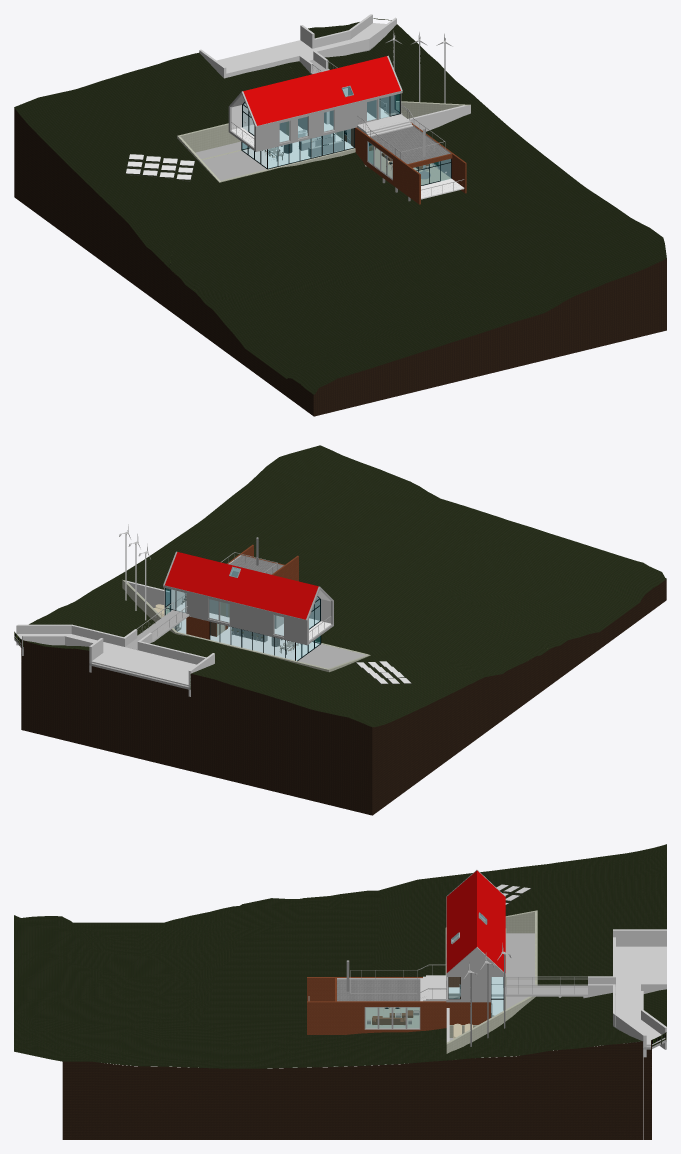
3 renders of one model, top to bottom at view 1: azimuth 30°, elevation 25°; view 2: azimuth 150°, elevation 25°; view 3: azimuth 270°, elevation 25°, orthographic. The views are drawn at different scales.
Visible parts, largest first — view 1: 表面, SG Metal Panels roof, SIP 202mm Wall - conc clad, Wall - Timber Clad (×2), CL_W1 (×2), 150mm Foundation Slab, Warm Roof - Timber, Concrete-Domestic 425mm, Generic 150mm, Foundation - 300mm Concrete, 楼梯, Timber Suspended Floor (+1 smaller); view 2: 表面 (×2), SG Metal Panels roof, SIP 202mm Wall - conc clad, 150mm Foundation Slab, Retaining - 300mm Concrete (×3), Generic 150mm, Concrete-Domestic 425mm, Insitu Concrete 225mm, Foundation - 300mm Concrete; view 3: 表面 (×2), Wall - Timber Clad (×2), SG Metal Panels roof, 150mm Foundation Slab, Insitu Concrete 225mm (×2), Warm Roof - Timber, SIP 202mm Wall - conc clad, CL_W1 (×2), Retaining - 300mm Concrete (×2), Timber Suspended Floor, 楼梯.
Part boxes in pixels (left/top/right/bottom): 表面: left=14, top=18, right=666, bottom=416; SG Metal Panels roof: left=232, top=56, right=400, bottom=125; SIP 202mm Wall - conc clad: left=257, top=91, right=401, bottom=151; Wall - Timber Clad (×2): left=354, top=102, right=466, bottom=204; CL_W1 (×2): left=178, top=101, right=470, bottom=152; 150mm Foundation Slab: left=217, top=23, right=385, bottom=72; Warm Roof - Timber: left=370, top=126, right=449, bottom=163; Concrete-Domestic 425mm: left=202, top=150, right=266, bottom=180; Generic 150mm: left=243, top=133, right=353, bottom=168; Foundation - 300mm Concrete: left=408, top=105, right=467, bottom=131; 楼梯: left=357, top=114, right=412, bottom=136; Timber Suspended Floor: left=369, top=148, right=450, bottom=185; 表面 (×2): left=14, top=445, right=666, bottom=815; SG Metal Panels roof: left=164, top=552, right=330, bottom=619; SIP 202mm Wall - conc clad: left=164, top=585, right=305, bottom=644; 150mm Foundation Slab: left=14, top=634, right=196, bottom=685; Retaining - 300mm Concrete (×3): left=16, top=624, right=206, bottom=664; Generic 150mm: left=178, top=618, right=319, bottom=660; Concrete-Domestic 425mm: left=298, top=644, right=366, bottom=668; Insitu Concrete 225mm: left=125, top=610, right=189, bottom=649; Foundation - 300mm Concrete: left=127, top=581, right=169, bottom=607; 表面 (×2): left=14, top=844, right=666, bottom=1139; Wall - Timber Clad (×2): left=307, top=977, right=490, bottom=1034; SG Metal Panels roof: left=446, top=870, right=505, bottom=973; 150mm Foundation Slab: left=616, top=946, right=666, bottom=1045; Insitu Concrete 225mm (×2): left=505, top=933, right=615, bottom=1008; Warm Roof - Timber: left=337, top=979, right=420, bottom=1001; SIP 202mm Wall - conc clad: left=446, top=947, right=505, bottom=1002; CL_W1 (×2): left=446, top=910, right=537, bottom=1053; Retaining - 300mm Concrete (×2): left=613, top=929, right=666, bottom=1057; Timber Suspended Floor: left=365, top=1007, right=419, bottom=1028; 楼梯: left=420, top=975, right=446, bottom=1001.
Bounding box in the file's own units: 50.43 × 19.16 × 70.37.
Materials: 92 (15 with a texture image).
